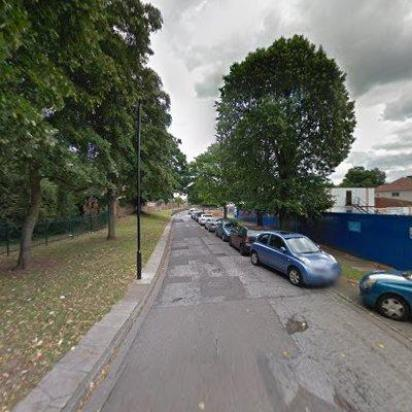stationary-car-offstreet: (357, 268, 411, 332)
stationary-car-onstreet: (250, 232, 340, 289), (227, 222, 271, 256), (215, 220, 237, 240), (204, 217, 224, 232), (197, 213, 213, 225)
stationary-light-truck-onstreet: (194, 211, 206, 223)
